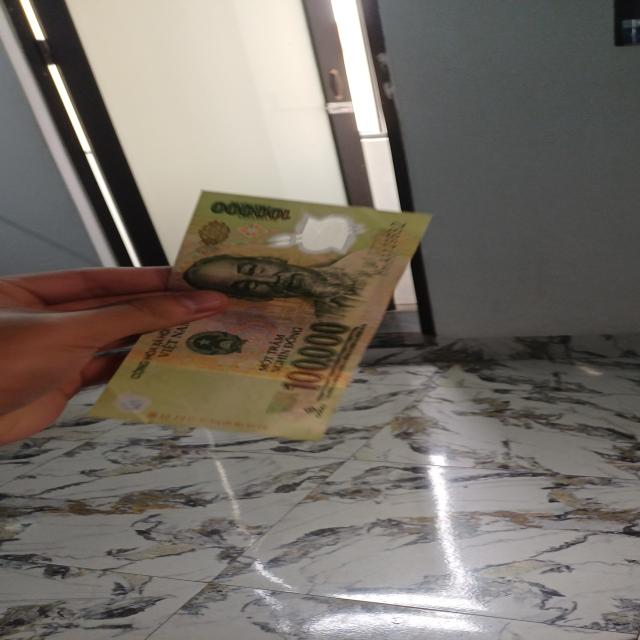100 000 VND: (77, 186, 438, 446)
